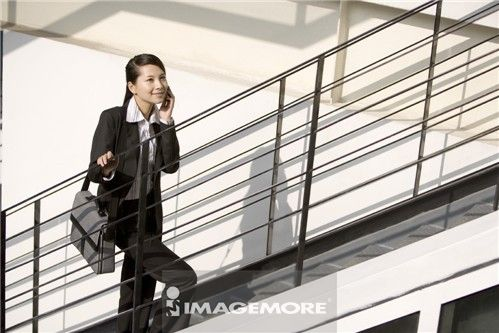talk: (143, 69, 174, 120)
